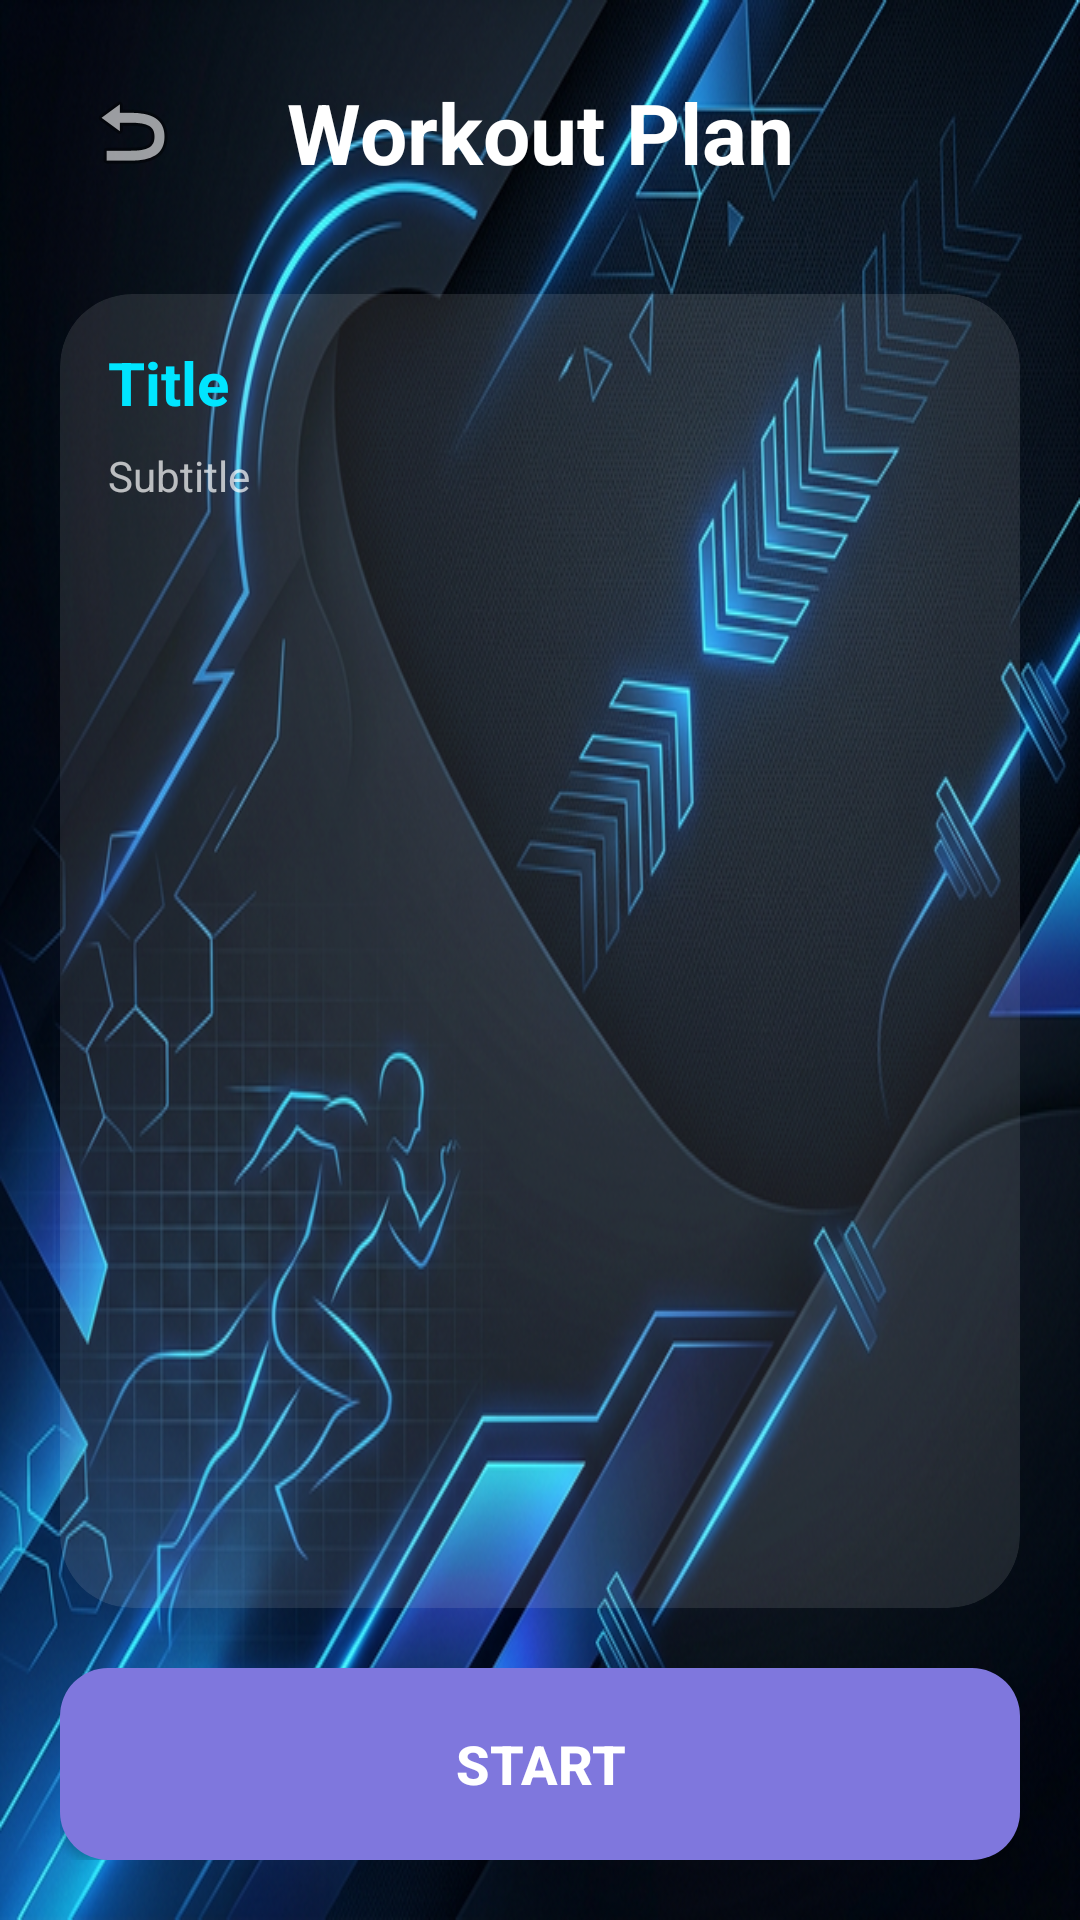

Icons on this 1080x1920 Android screen, each with its box as (x1, y1, x2, y2):
Back: (102, 104, 165, 161)
